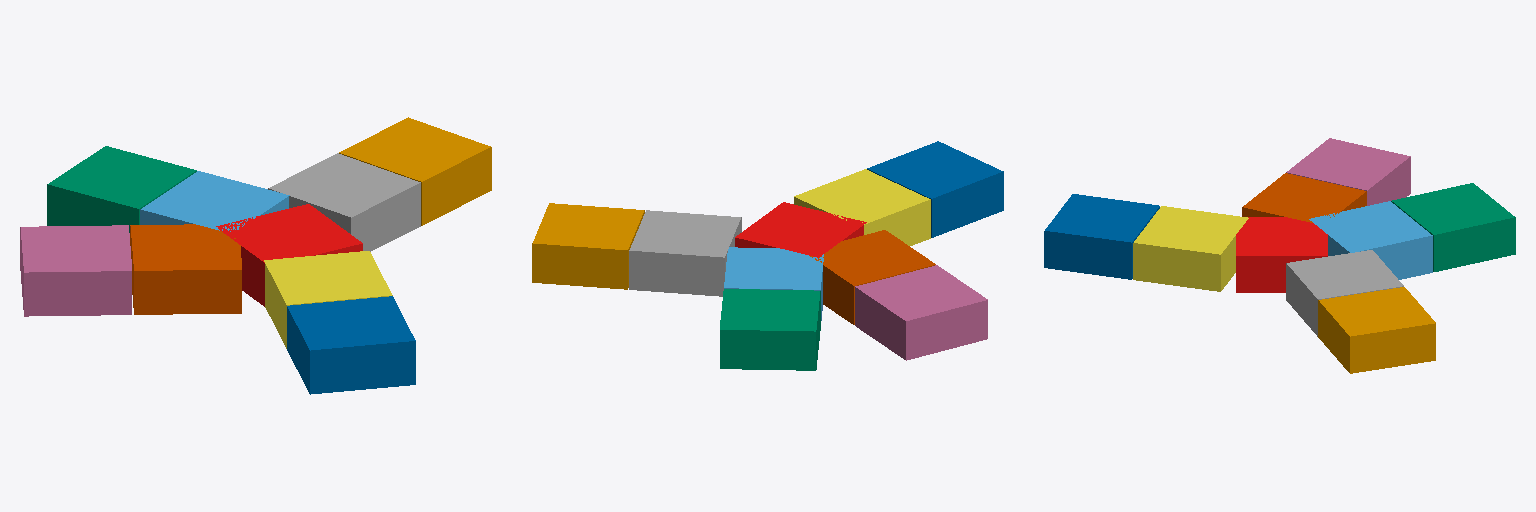
robot.urdf — Model_Models/Model_97.urdf7:
<?xml version='1.0' encoding='UTF-8'?>
<robot name="Model_Models/Model_97.urdf7">
  <link name="base_link">
    <inertial>
      <origin xyz="0.0 0.0 0.0" rpy="0.0 -0.0 0.0"/>
      <mass value="1.0"/>
      <inertia ixx="1.0" ixy="0.0" ixz="0.0" iyy="1.0" iyz="0.0" izz="1.0"/>
    </inertial>
    <visual>
      <geometry>
        <box size="0.67 0.67 0.3 "/>
      </geometry>
      <material name="red"/>
      <origin xyz="0.0 0.0 0.0" rpy="0.0 -0.0 0.0"/>
    </visual>
    <collision>
      <geometry>
        <box size="0.67 0.67 0.3 "/>
      </geometry>
      <origin xyz="0.0 0.0 0.0" rpy="0.0 0.0 0.0"/>
    </collision>
  </link>
  <link name="arm_0_arm1">
    <inertial>
      <origin xyz="0.0 0.34 0.0" rpy="0.0 0.0 0.0"/>
      <mass value="1.0"/>
      <inertia ixx="0.0" ixy="0.0" ixz="0.0" iyy="0.0" iyz="0.0" izz="0.0"/>
    </inertial>
    <visual>
      <geometry>
        <box size="0.67 0.67 0.3 "/>
      </geometry>
      <origin xyz="0.0 0.34 0.0" rpy="0.0 0.0 0.0"/>
    </visual>
    <collision>
      <geometry>
        <box size="0.67 0.67 0.3 "/>
      </geometry>
      <origin xyz="0.0 0.34 0.0" rpy="0.0 0.0 0.0"/>
    </collision>
  </link>
  <link name="arm_0_arm2">
    <inertial>
      <origin xyz="0.0 0.34 0.0" rpy="0.0 0.0 0.0"/>
      <mass value="1.0"/>
      <inertia ixx="0.0" ixy="0.0" ixz="0.0" iyy="0.0" iyz="0.0" izz="0.0"/>
    </inertial>
    <visual>
      <geometry>
        <box size="0.67 0.67 0.3 "/>
      </geometry>
      <origin xyz="0.0 0.34 0.0" rpy="0.0 0.0 0.0"/>
    </visual>
    <collision>
      <geometry>
        <box size="0.67 0.67 0.3 "/>
      </geometry>
      <origin xyz="0.0 0.34 0.0" rpy="0.0 0.0 0.0"/>
    </collision>
  </link>
  <link name="arm_1_arm1">
    <inertial>
      <origin xyz="0.0 0.34 0.0" rpy="0.0 0.0 0.0"/>
      <mass value="1.0"/>
      <inertia ixx="0.0" ixy="0.0" ixz="0.0" iyy="0.0" iyz="0.0" izz="0.0"/>
    </inertial>
    <visual>
      <geometry>
        <box size="0.67 0.67 0.3 "/>
      </geometry>
      <origin xyz="0.0 0.34 0.0" rpy="0.0 0.0 0.0"/>
    </visual>
    <collision>
      <geometry>
        <box size="0.67 0.67 0.3 "/>
      </geometry>
      <origin xyz="0.0 0.34 0.0" rpy="0.0 0.0 0.0"/>
    </collision>
  </link>
  <link name="arm_1_arm2">
    <inertial>
      <origin xyz="0.0 0.34 0.0" rpy="0.0 0.0 0.0"/>
      <mass value="1.0"/>
      <inertia ixx="0.0" ixy="0.0" ixz="0.0" iyy="0.0" iyz="0.0" izz="0.0"/>
    </inertial>
    <visual>
      <geometry>
        <box size="0.67 0.67 0.3 "/>
      </geometry>
      <origin xyz="0.0 0.34 0.0" rpy="0.0 0.0 0.0"/>
    </visual>
    <collision>
      <geometry>
        <box size="0.67 0.67 0.3 "/>
      </geometry>
      <origin xyz="0.0 0.34 0.0" rpy="0.0 0.0 0.0"/>
    </collision>
  </link>
  <link name="arm_3_arm1">
    <inertial>
      <origin xyz="0.0 0.34 0.0" rpy="0.0 0.0 0.0"/>
      <mass value="1.0"/>
      <inertia ixx="0.0" ixy="0.0" ixz="0.0" iyy="0.0" iyz="0.0" izz="0.0"/>
    </inertial>
    <visual>
      <geometry>
        <box size="0.67 0.67 0.3 "/>
      </geometry>
      <origin xyz="0.0 0.34 0.0" rpy="0.0 0.0 0.0"/>
    </visual>
    <collision>
      <geometry>
        <box size="0.67 0.67 0.3 "/>
      </geometry>
      <origin xyz="0.0 0.34 0.0" rpy="0.0 0.0 0.0"/>
    </collision>
  </link>
  <link name="arm_3_arm2">
    <inertial>
      <origin xyz="0.0 0.34 0.0" rpy="0.0 0.0 0.0"/>
      <mass value="1.0"/>
      <inertia ixx="0.0" ixy="0.0" ixz="0.0" iyy="0.0" iyz="0.0" izz="0.0"/>
    </inertial>
    <visual>
      <geometry>
        <box size="0.67 0.67 0.3 "/>
      </geometry>
      <origin xyz="0.0 0.34 0.0" rpy="0.0 0.0 0.0"/>
    </visual>
    <collision>
      <geometry>
        <box size="0.67 0.67 0.3 "/>
      </geometry>
      <origin xyz="0.0 0.34 0.0" rpy="0.0 0.0 0.0"/>
    </collision>
  </link>
  <link name="arm_Permutation_7_arm1">
    <inertial>
      <origin xyz="0.0 0.34 0.0" rpy="0.0 0.0 0.0"/>
      <mass value="1.0"/>
      <inertia ixx="0.0" ixy="0.0" ixz="0.0" iyy="0.0" iyz="0.0" izz="0.0"/>
    </inertial>
    <visual>
      <geometry>
        <box size="0.67 0.67 0.3 "/>
      </geometry>
      <origin xyz="0.0 0.34 0.0" rpy="0.0 0.0 0.0"/>
    </visual>
    <collision>
      <geometry>
        <box size="0.67 0.67 0.3 "/>
      </geometry>
      <origin xyz="0.0 0.34 0.0" rpy="0.0 0.0 0.0"/>
    </collision>
  </link>
  <link name="arm_Permutation_7_arm2">
    <inertial>
      <origin xyz="0.0 0.34 0.0" rpy="0.0 0.0 0.0"/>
      <mass value="1.0"/>
      <inertia ixx="0.0" ixy="0.0" ixz="0.0" iyy="0.0" iyz="0.0" izz="0.0"/>
    </inertial>
    <visual>
      <geometry>
        <box size="0.67 0.67 0.3 "/>
      </geometry>
      <origin xyz="0.0 0.34 0.0" rpy="0.0 0.0 0.0"/>
    </visual>
    <collision>
      <geometry>
        <box size="0.67 0.67 0.3 "/>
      </geometry>
      <origin xyz="0.0 0.34 0.0" rpy="0.0 0.0 0.0"/>
    </collision>
  </link>
  <joint name="arm_0_jointBase" type="fixed">
    <limit effort="1.57" velocity="1.57" lower="-1.57" upper="1.57"/>
    <parent link="base_link"/>
    <child link="arm_0_arm1"/>
    <axis xyz="1. 0. 0."/>
    <origin xyz="0.0 0.34 0.0" rpy="0.0 0.0 0.48"/>
  </joint>
  <joint name="arm_0_joint1" type="revolute">
    <limit effort="1.57" velocity="1.57" lower="-1.57" upper="1.57"/>
    <parent link="arm_0_arm1"/>
    <child link="arm_0_arm2"/>
    <axis xyz="1. 0. 0."/>
    <origin xyz="0.0 0.68 0.0" rpy="0.0 0.0 0.0"/>
  </joint>
  <joint name="arm_1_jointBase" type="fixed">
    <limit effort="1.57" velocity="1.57" lower="-1.57" upper="1.57"/>
    <parent link="base_link"/>
    <child link="arm_1_arm1"/>
    <axis xyz="1. 0. 0."/>
    <origin xyz="0.0 -0.34 0.0" rpy="0.0 0.0 2.83"/>
  </joint>
  <joint name="arm_1_joint1" type="revolute">
    <limit effort="1.57" velocity="1.57" lower="-1.57" upper="1.57"/>
    <parent link="arm_1_arm1"/>
    <child link="arm_1_arm2"/>
    <axis xyz="1. 0. 0."/>
    <origin xyz="0.0 0.68 0.0" rpy="0.0 0.0 0.0"/>
  </joint>
  <joint name="arm_3_jointBase" type="fixed">
    <limit effort="1.57" velocity="1.57" lower="-1.57" upper="1.57"/>
    <parent link="base_link"/>
    <child link="arm_3_arm1"/>
    <axis xyz="1. 0. 0."/>
    <origin xyz="-0.34 0.0 0.0" rpy="0.0 0.0 1.08"/>
  </joint>
  <joint name="arm_3_joint1" type="revolute">
    <limit effort="1.57" velocity="1.57" lower="-1.57" upper="1.57"/>
    <parent link="arm_3_arm1"/>
    <child link="arm_3_arm2"/>
    <axis xyz="1. 0. 0."/>
    <origin xyz="0.0 0.68 0.0" rpy="0.0 0.0 0.0"/>
  </joint>
  <joint name="arm_Permutation_7_jointBase" type="fixed">
    <limit effort="1.57" velocity="1.57" lower="-1.57" upper="1.57"/>
    <parent link="base_link"/>
    <child link="arm_Permutation_7_arm1"/>
    <axis xyz="1. 0. 0."/>
    <origin xyz="0.34 0.34 0.0" rpy="0.0 0.0 -1.22"/>
  </joint>
  <joint name="arm_Permutation_7_joint1" type="revolute">
    <limit effort="1.57" velocity="1.57" lower="-1.57" upper="1.57"/>
    <parent link="arm_Permutation_7_arm1"/>
    <child link="arm_Permutation_7_arm2"/>
    <axis xyz="1. 0. 0."/>
    <origin xyz="0.0 0.68 0.0" rpy="0.0 0.0 0.0"/>
  </joint>
  <material name="red">
    <color rgba="0.969 0.129 0.122 1.   "/>
  </material>
</robot>

--- Render facts (derived) ---
The picture shows the robot from 3 angles, left to right: view 1: azimuth 30°, elevation 25°; view 2: azimuth 150°, elevation 25°; view 3: azimuth 270°, elevation 25°; orthographic projection.
Robot: Model_Models/Model_97.urdf7 — 9 links, 8 joints (4 revolute, 4 fixed); root link base_link; default pose: all joints at 0.
Visible links, largest first — view 1: arm_1_arm2, arm_3_arm2, arm_3_arm1, arm_Permutation_7_arm1, arm_Permutation_7_arm2, arm_0_arm2, arm_1_arm1, base_link, arm_0_arm1; view 2: arm_3_arm2, arm_0_arm2, arm_Permutation_7_arm1, arm_Permutation_7_arm2, arm_1_arm2, arm_1_arm1, arm_3_arm1, base_link, arm_0_arm1; view 3: arm_Permutation_7_arm2, arm_1_arm1, arm_1_arm2, arm_0_arm2, arm_0_arm1, base_link, arm_3_arm2, arm_Permutation_7_arm1, arm_3_arm1.
Link boxes in pixels (box(x1,y1,x2,y2)): arm_1_arm2: box(287, 296, 415, 394); arm_3_arm2: box(20, 225, 131, 316); arm_3_arm1: box(130, 224, 241, 314); arm_Permutation_7_arm1: box(268, 153, 420, 251); arm_Permutation_7_arm2: box(339, 117, 491, 225); arm_0_arm2: box(47, 146, 196, 232); arm_1_arm1: box(264, 251, 392, 348); base_link: box(216, 204, 362, 306); arm_0_arm1: box(140, 171, 289, 231); arm_3_arm2: box(855, 265, 987, 360); arm_0_arm2: box(720, 289, 820, 370); arm_Permutation_7_arm1: box(629, 210, 741, 296); arm_Permutation_7_arm2: box(532, 203, 644, 289); arm_1_arm2: box(867, 141, 1003, 237); arm_1_arm1: box(794, 169, 930, 245); arm_3_arm1: box(810, 230, 935, 324); base_link: box(735, 202, 866, 257); arm_0_arm1: box(724, 247, 823, 320); arm_Permutation_7_arm2: box(1318, 287, 1435, 373); arm_1_arm1: box(1133, 206, 1248, 291); arm_1_arm2: box(1044, 194, 1159, 279); arm_0_arm2: box(1391, 183, 1515, 271); arm_0_arm1: box(1309, 201, 1432, 279); base_link: box(1236, 217, 1327, 292); arm_3_arm2: box(1286, 138, 1410, 205); arm_Permutation_7_arm1: box(1286, 250, 1403, 336); arm_3_arm1: box(1242, 173, 1366, 222).
Size in the robot's own frame: 3.42 by 3.43 by 0.3 metres.
Geometry: primitives only (box / cylinder / sphere), no mesh files.